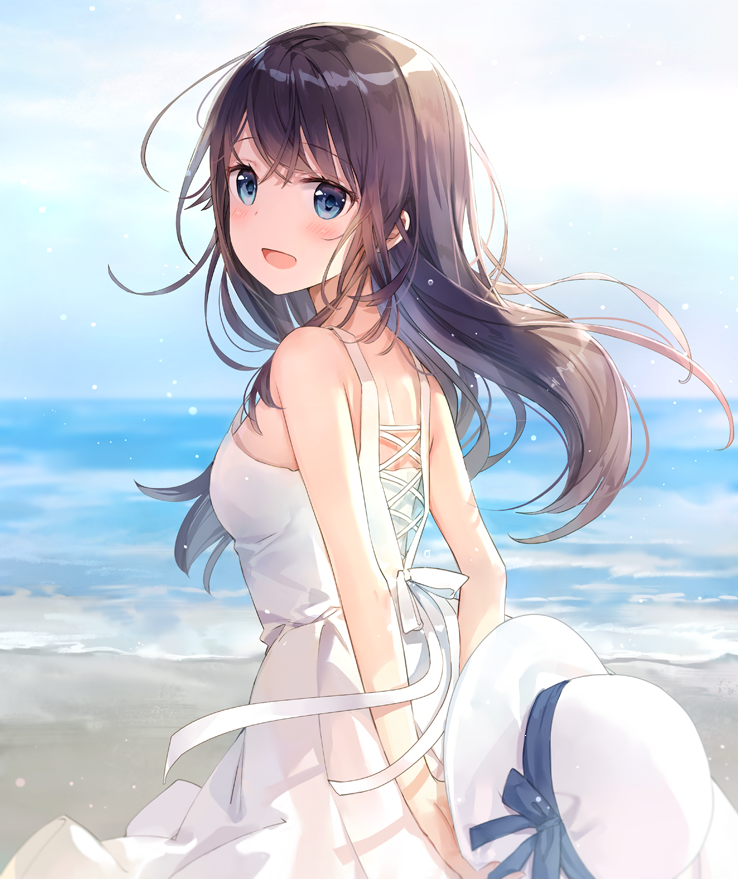纸片人正脸: (177, 21, 481, 306)
